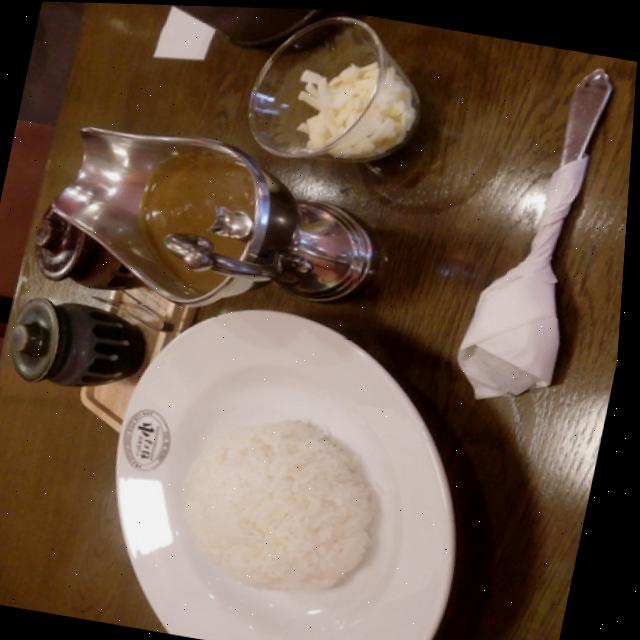牛肉菜式: (31, 100, 408, 337)
